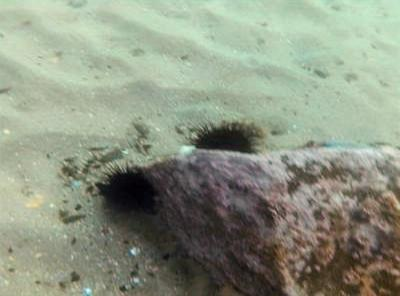urchin: (93, 161, 162, 213), (191, 118, 262, 161)
